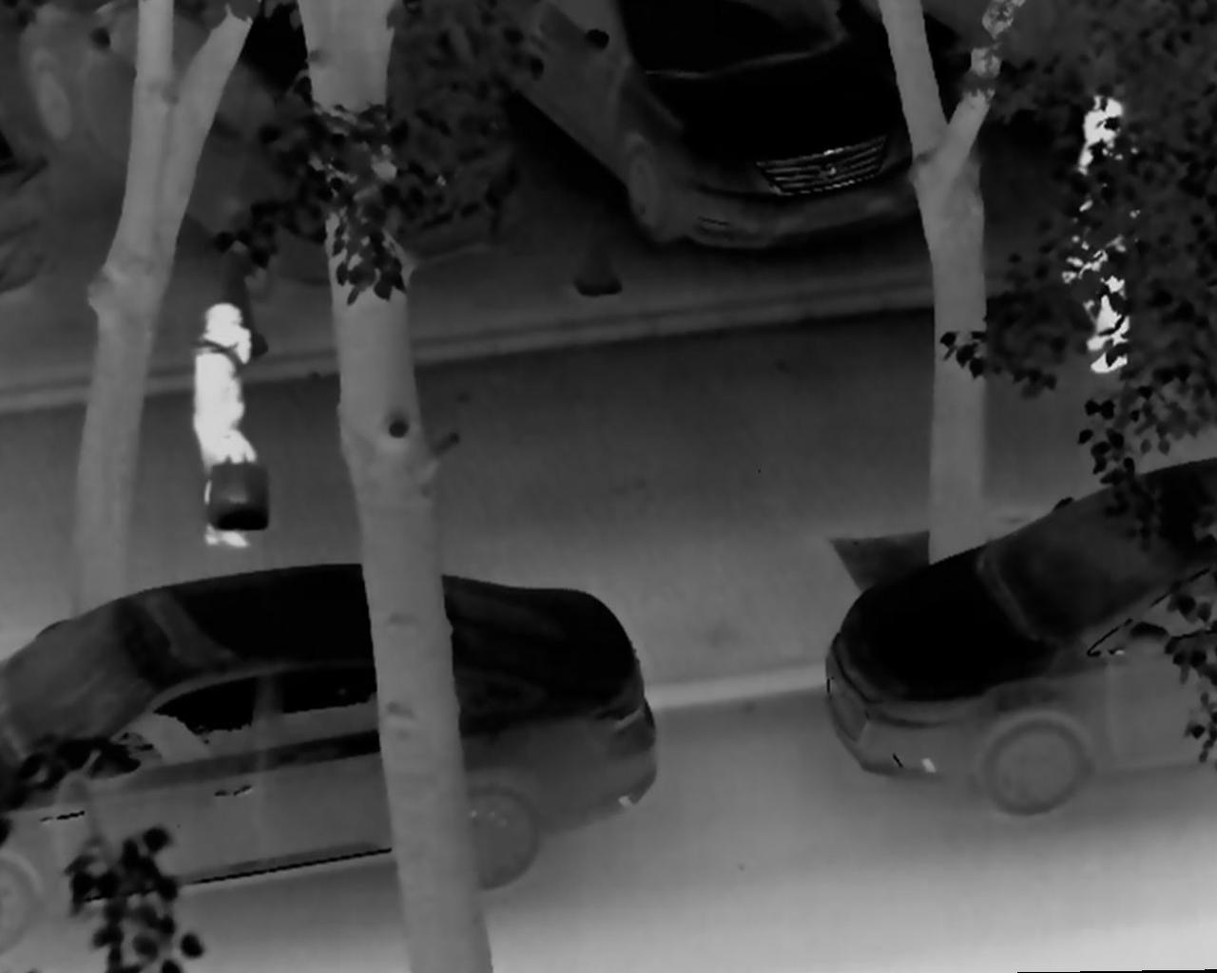person: (1085, 105, 1186, 380), (171, 300, 277, 554), (1056, 59, 1132, 317)
